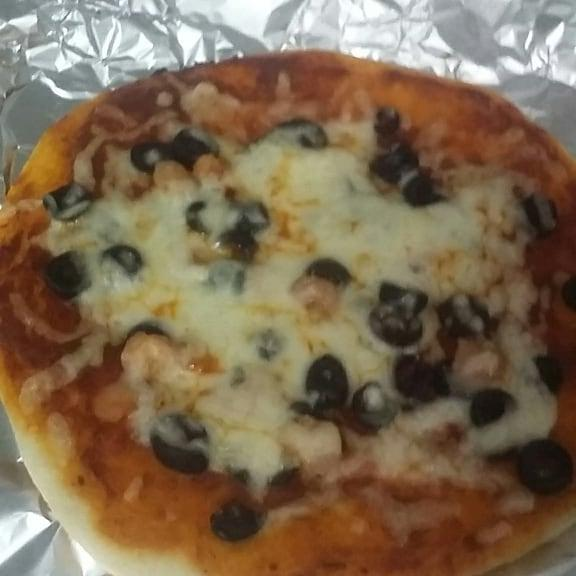Cheese: (189, 304, 286, 416), (275, 167, 359, 244), (386, 219, 476, 274)
Olives: (369, 109, 441, 204), (192, 199, 262, 256), (149, 413, 207, 475), (516, 439, 576, 494), (134, 130, 218, 169), (376, 280, 423, 344), (298, 350, 348, 402), (392, 362, 449, 403), (44, 249, 93, 296), (210, 499, 263, 541), (442, 289, 489, 335), (352, 383, 402, 423), (45, 183, 94, 221), (269, 119, 327, 150), (231, 461, 300, 487), (472, 388, 519, 426), (303, 257, 353, 286), (519, 196, 560, 227), (108, 242, 146, 275), (123, 319, 176, 341), (536, 354, 565, 392), (557, 277, 576, 313)
Pizza: (2, 64, 576, 576)
